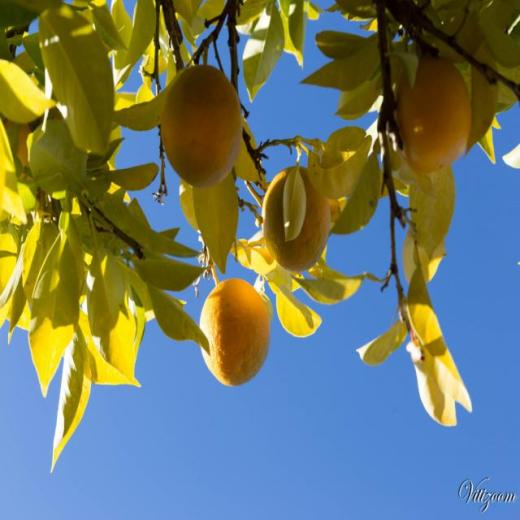Grape: (194, 270, 274, 384), (164, 63, 236, 183), (405, 54, 475, 171), (262, 171, 325, 261)
